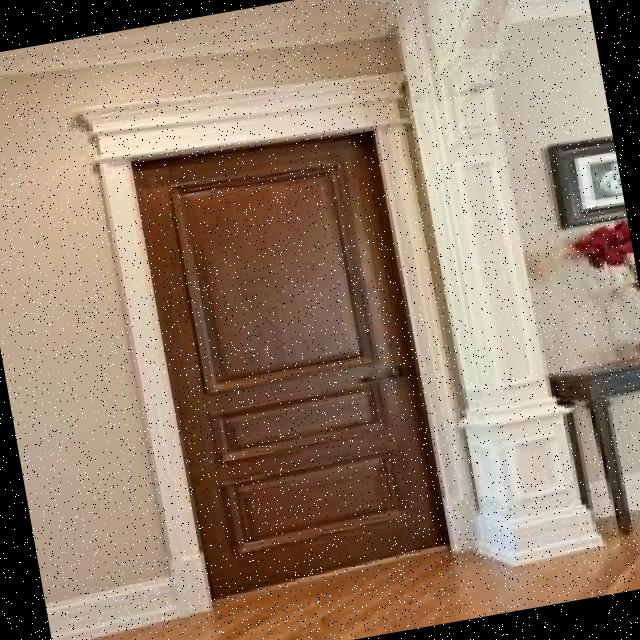Door: (121, 109, 462, 604)
Table: (547, 343, 640, 544)
